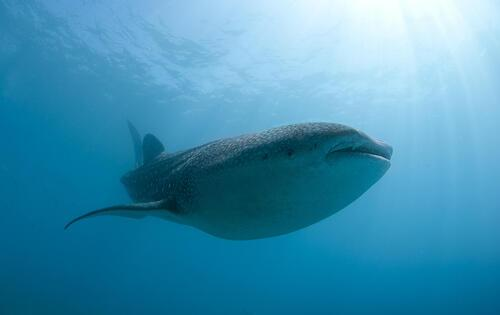shark: (64, 120, 394, 241)
